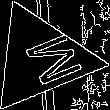M_SW: (5, 27, 76, 90)
